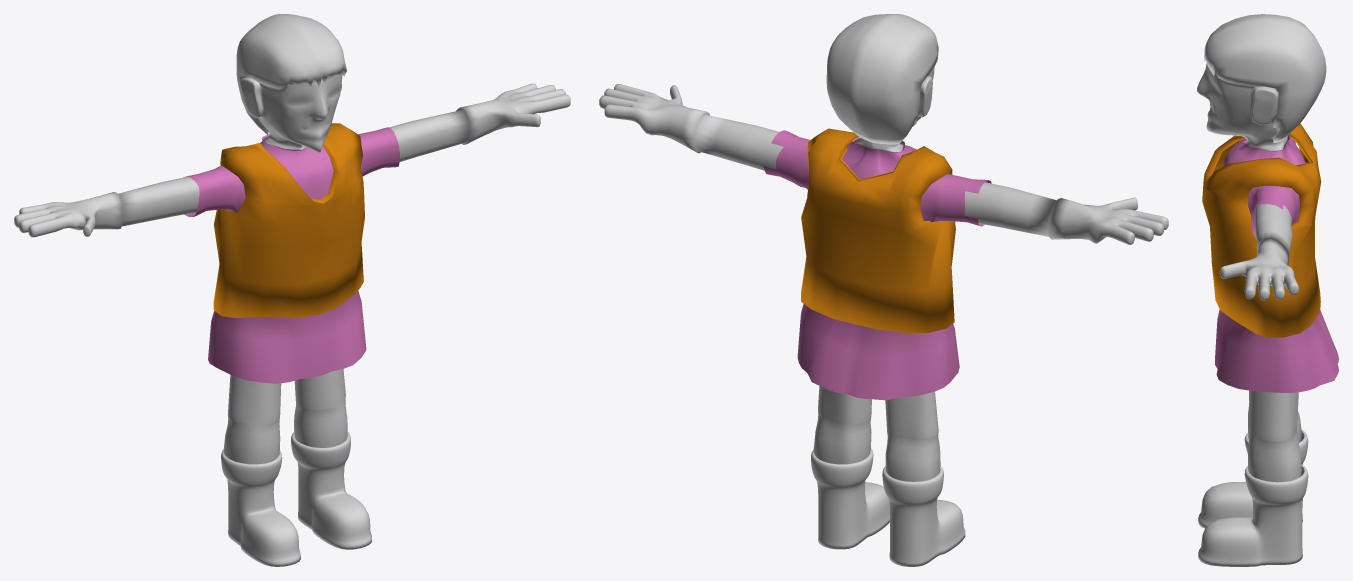
Rendered from NewHeadv3.fbx.
3 renders of one model, left to right at view 1: azimuth 30°, elevation 25°; view 2: azimuth 150°, elevation 25°; view 3: azimuth 270°, elevation 25°, orthographic. The views are drawn at different scales.
Parts seen in each view (by area): view 1: Plane; view 2: Plane; view 3: Plane.
Part boxes in pixels (box(x1,y1,x2,y2)): Plane: box(14, 14, 570, 566); Plane: box(599, 14, 1168, 566); Plane: box(1197, 14, 1338, 566).
Bounding box in the file's own units: 1032 × 930 × 229.
